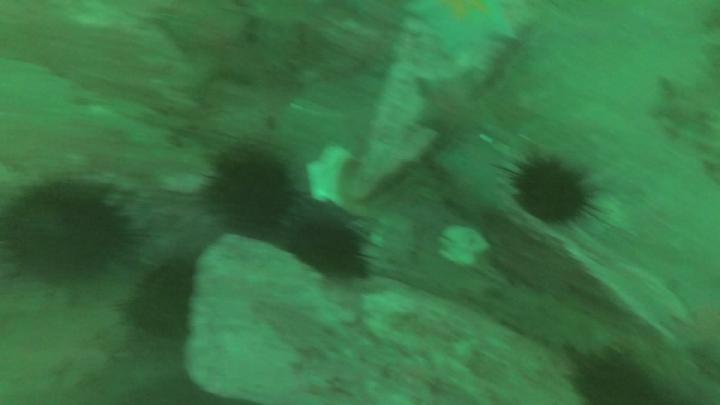echinus: (5, 186, 125, 283), (216, 157, 294, 231), (574, 350, 667, 405), (514, 159, 589, 218), (287, 220, 359, 273), (131, 269, 192, 330)
scallop: (440, 224, 489, 268)
starfish: (420, 69, 485, 139)
